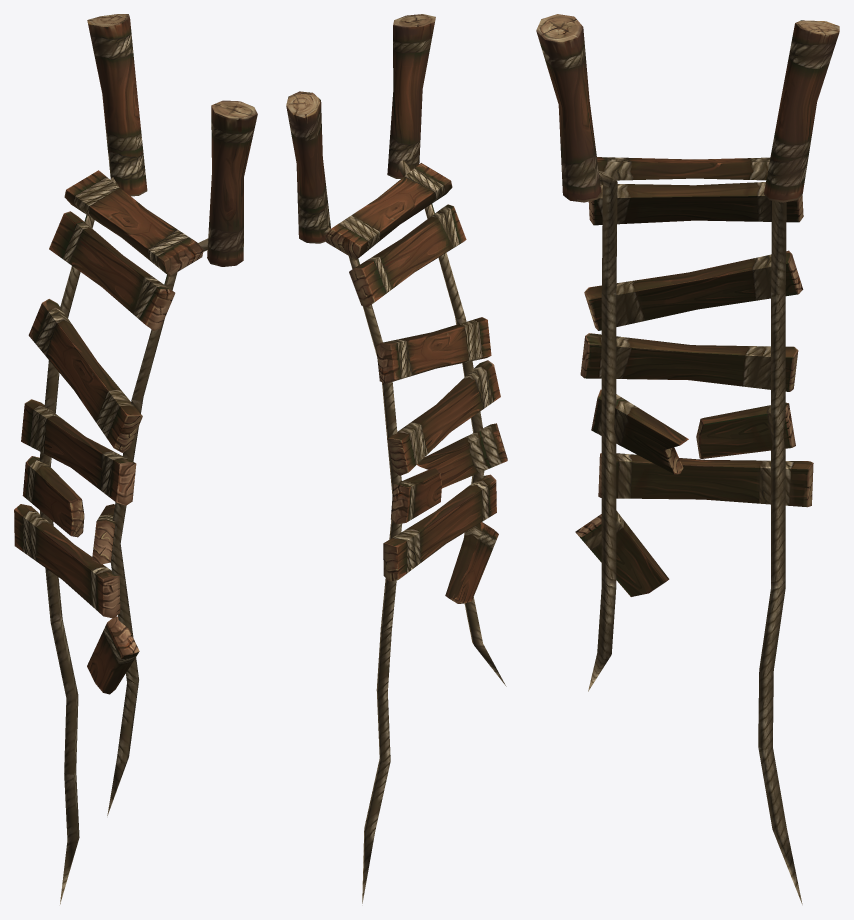
File: rope_bridge_ruin_l_small_01.fbx
The picture shows the model from 3 angles, left to right: view 1: azimuth 30°, elevation 25°; view 2: azimuth 150°, elevation 25°; view 3: azimuth 270°, elevation 25°; orthographic projection. The views are drawn at different scales.
Parts seen in each view (by area): view 1: rope_bridge_ruin_l_small_01; view 2: rope_bridge_ruin_l_small_01; view 3: rope_bridge_ruin_l_small_01.
Boxes of the visible parts, x1,y1,x2,y2 form: rope_bridge_ruin_l_small_01: [14, 14, 257, 904]; rope_bridge_ruin_l_small_01: [286, 14, 507, 903]; rope_bridge_ruin_l_small_01: [536, 14, 839, 904].
Bounding box in the file's own units: 106 × 619 × 186.
